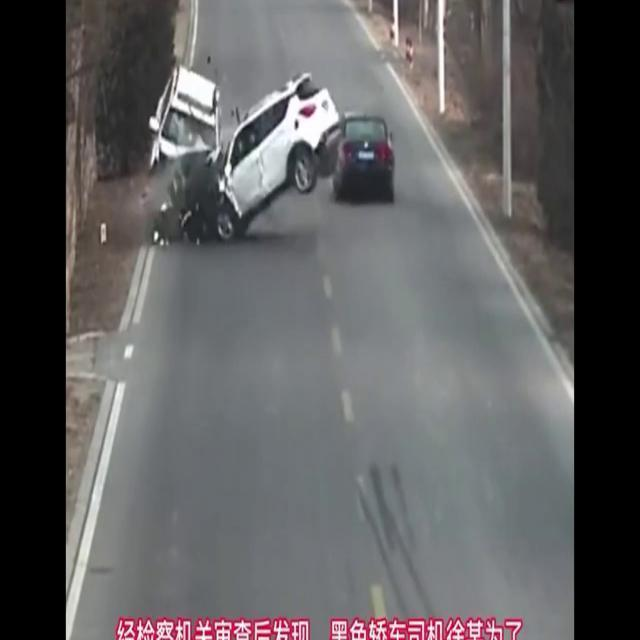accident: (146, 68, 344, 250)
non-accident: (240, 72, 396, 238)
